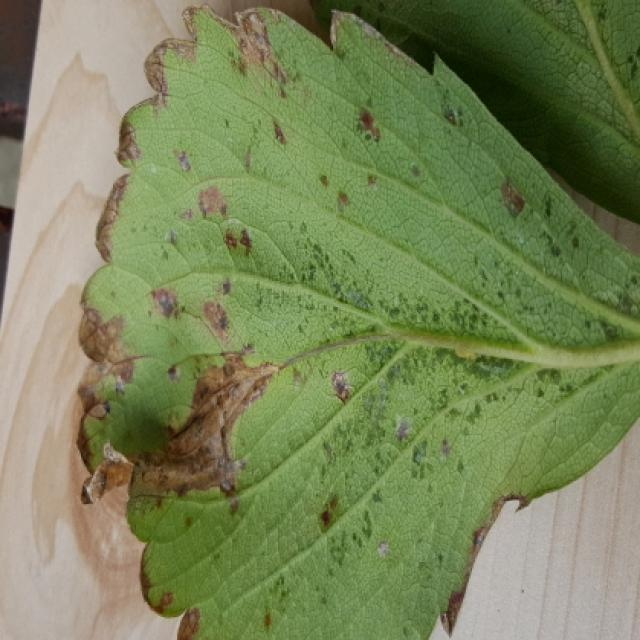Angular Leafspot: (74, 2, 638, 638)
